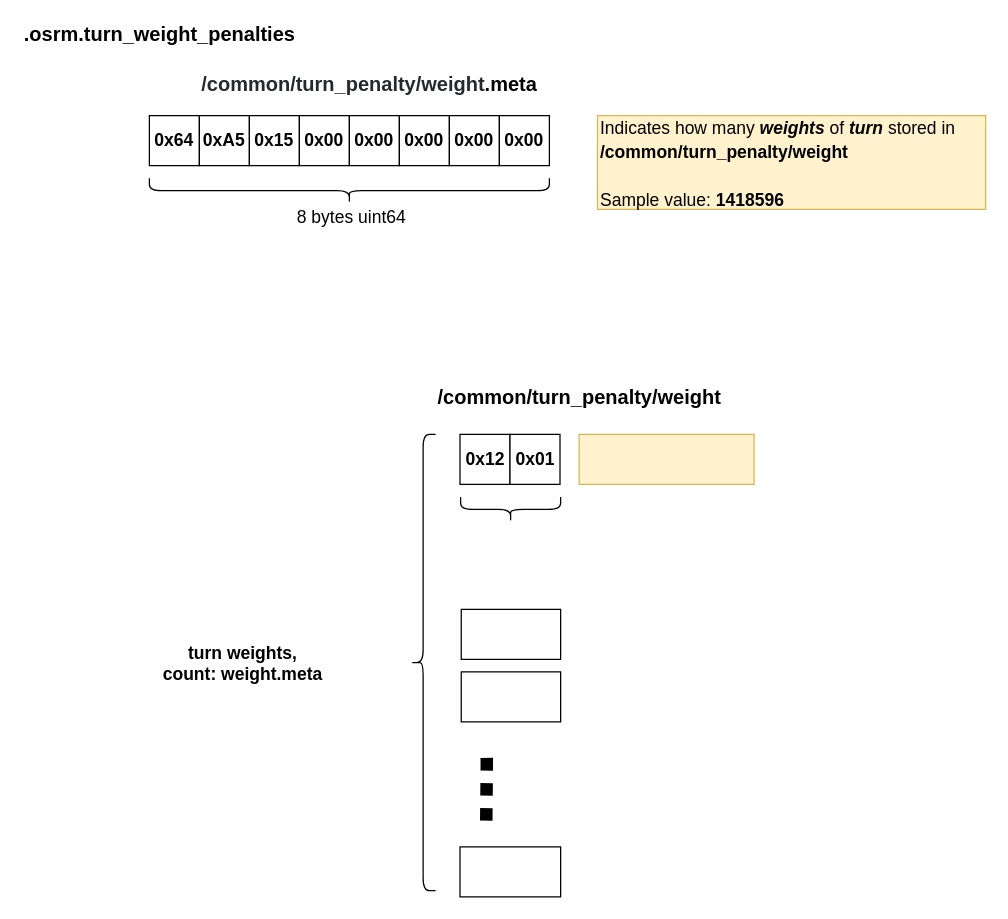
Image size: 1008x919. Some labels were removed from this diagram. Each missing label, with the centre of its shape:
"2 bytes int16 weight" belongs at (510,509).
"Sample value: 274" belongs at (666,458).
